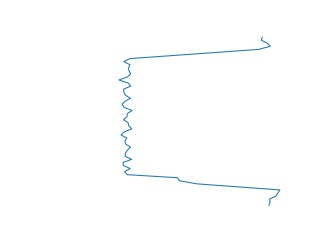distributaryChannelFill: (117, 35, 288, 208)
